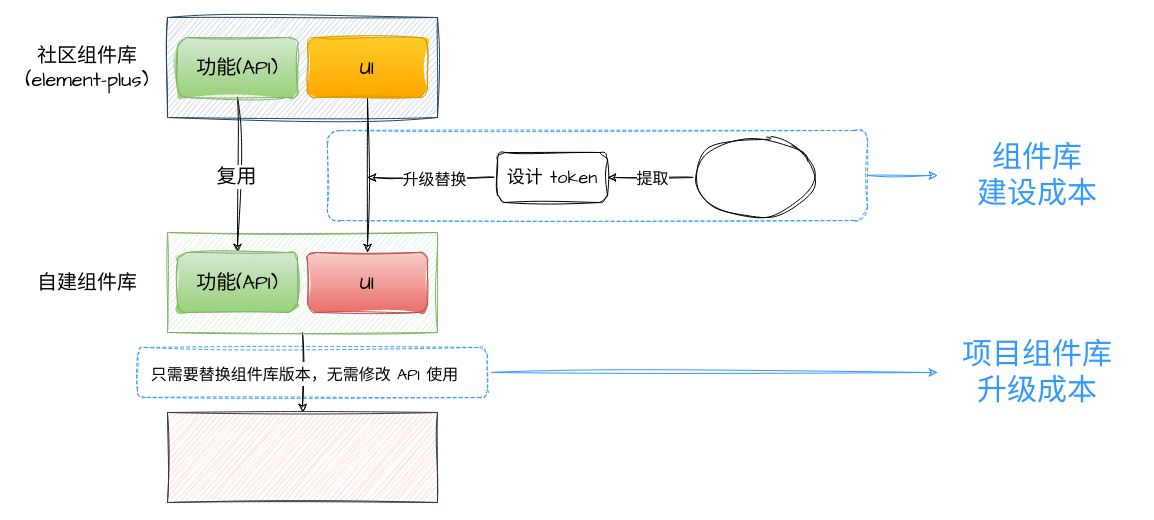
Some shapes in this 1154 by 520 pixel diagram are drawn without their labels. Here are the shapes that lost their labels. From the top down, the box of each, then its label:
(694, 136, 814, 218): UI 设计规范
(166, 412, 438, 502): 项目
